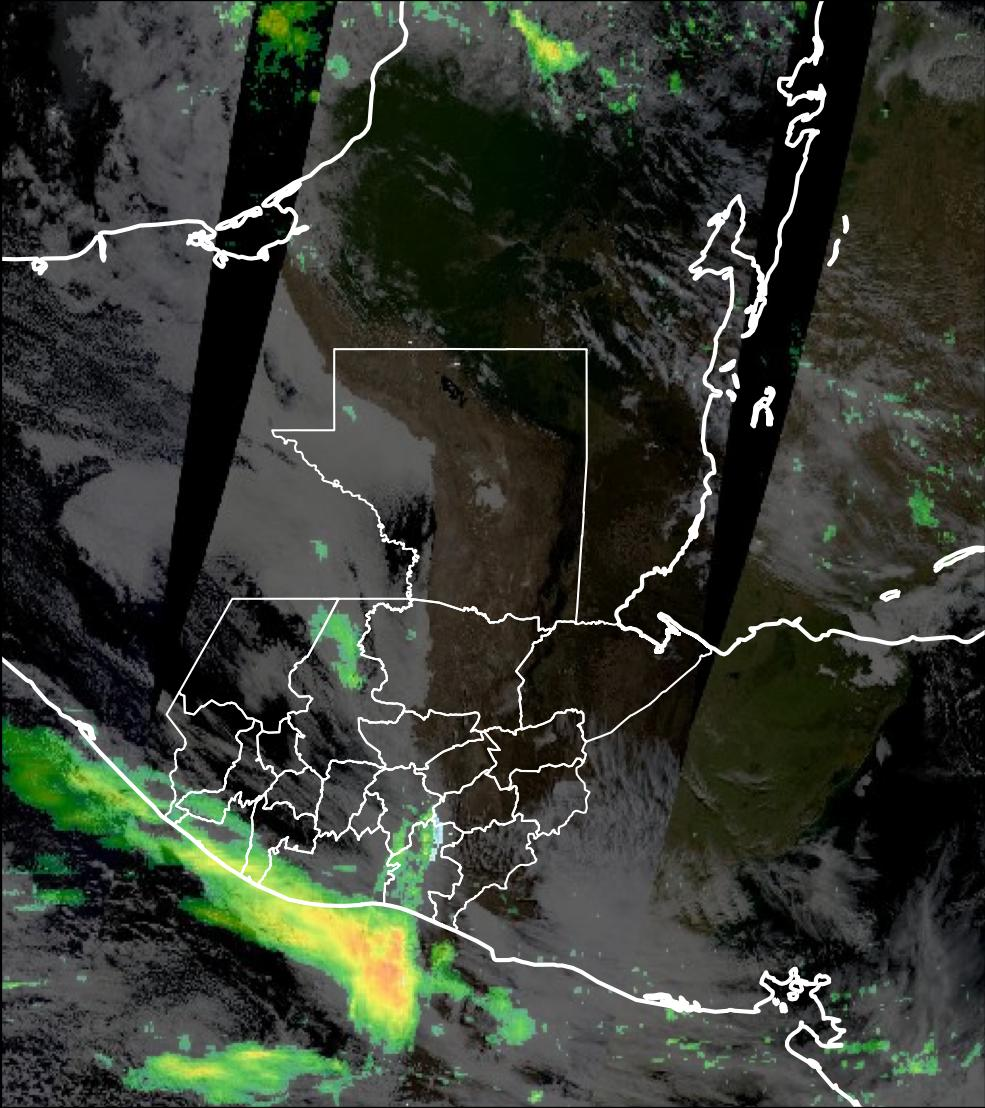precipitacion: (273, 873, 417, 1049)
